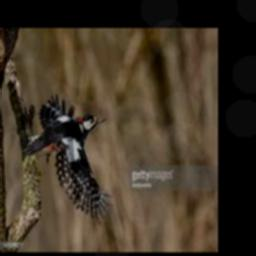Woodpecker: (23, 93, 113, 225)
